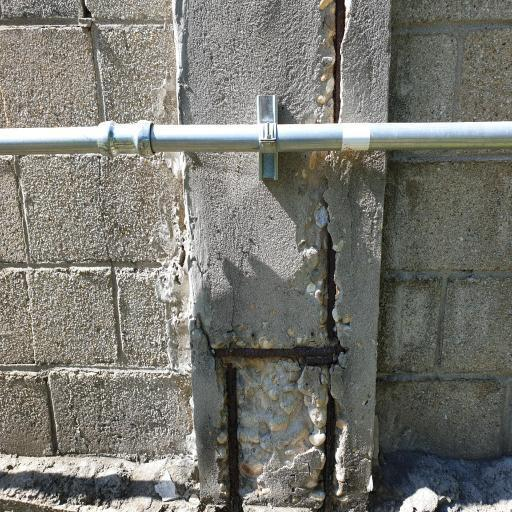exposed_rebar: (226, 363, 240, 512), (213, 347, 338, 363), (334, 0, 346, 123), (324, 393, 336, 512), (327, 235, 336, 340)
spalling: (234, 359, 329, 494)
